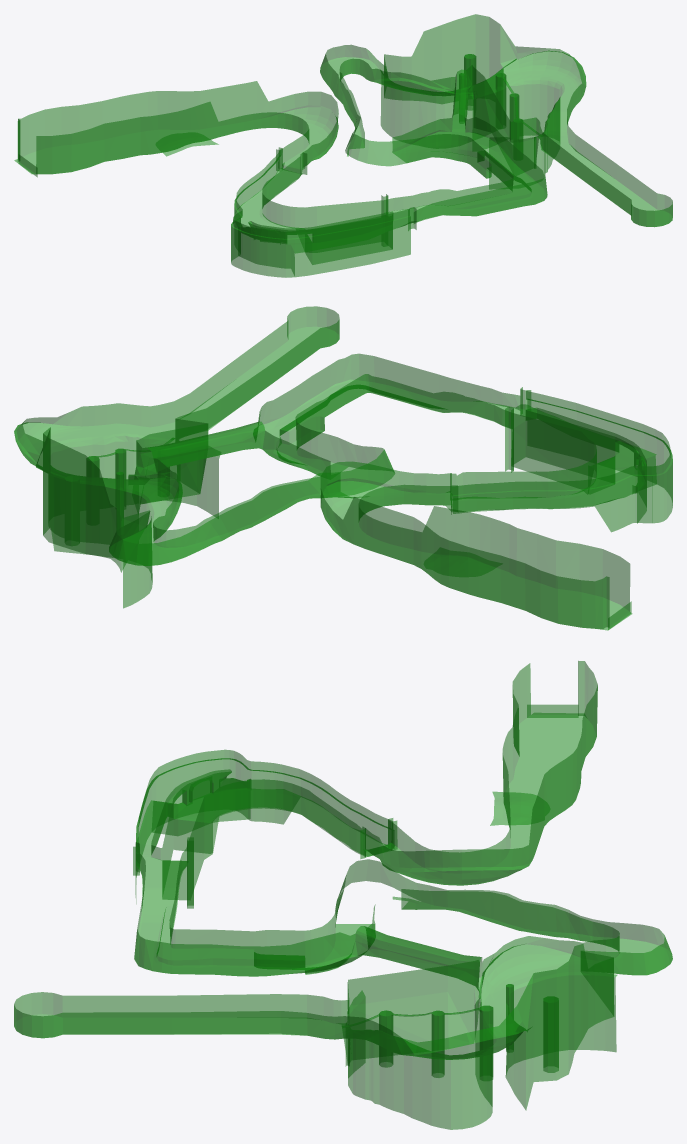
The model's file is _cam.obj.
The picture shows the model from 3 angles, top to bottom: view 1: azimuth 30°, elevation 25°; view 2: azimuth 150°, elevation 25°; view 3: azimuth 270°, elevation 25°; orthographic projection. The views are drawn at different scales.
Size of the model in its own units: 608 by 120 by 494.
